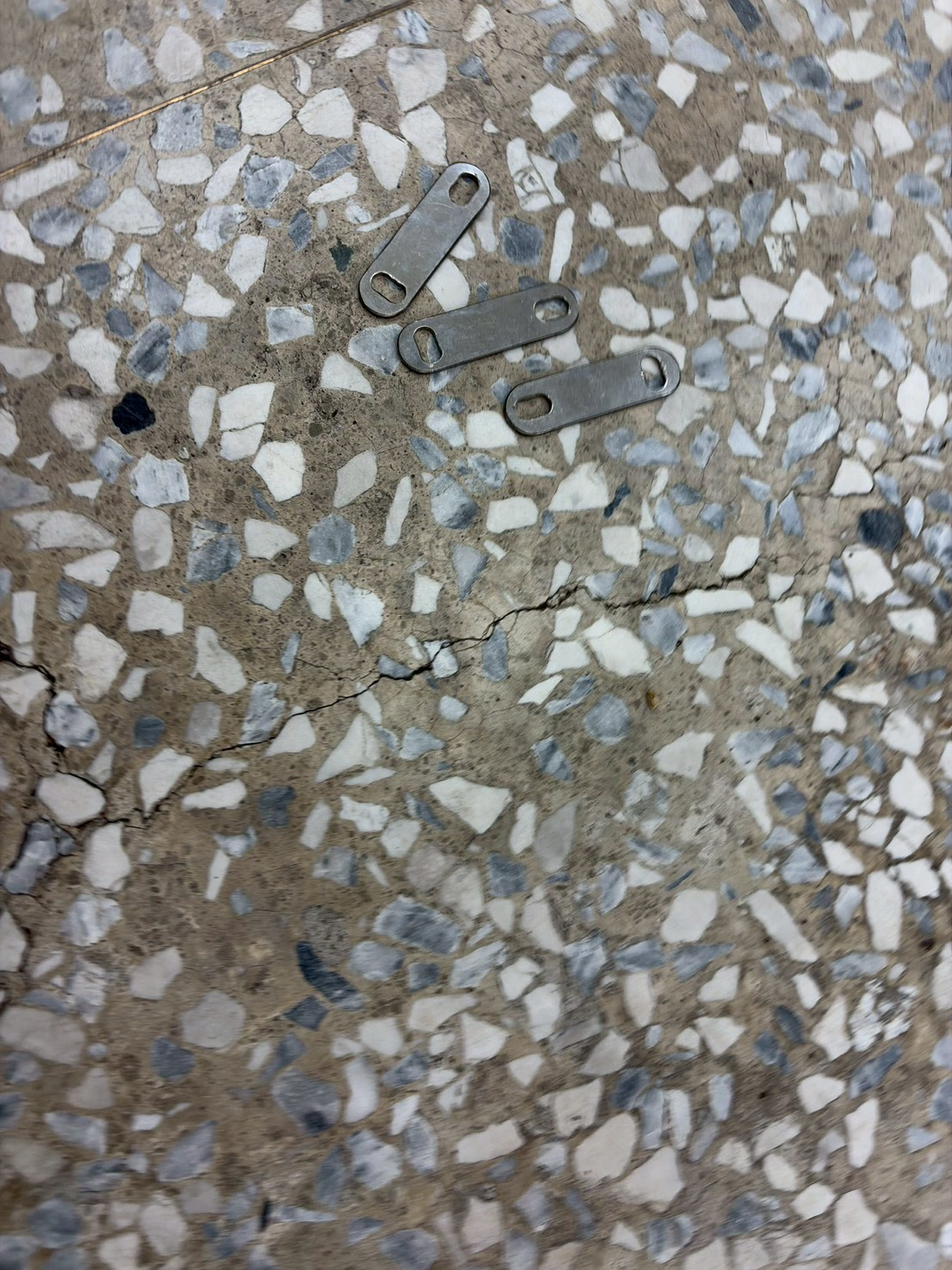Fe: (578, 274, 641, 476), (668, 334, 731, 511), (458, 152, 516, 329)
